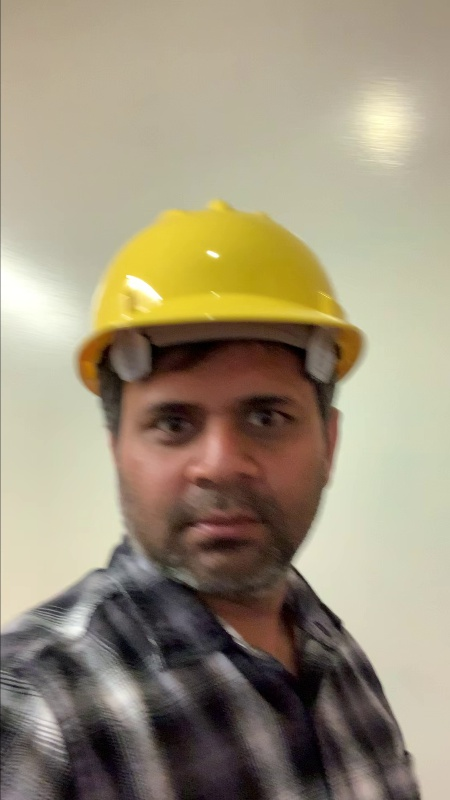helmet: (70, 196, 367, 319)
